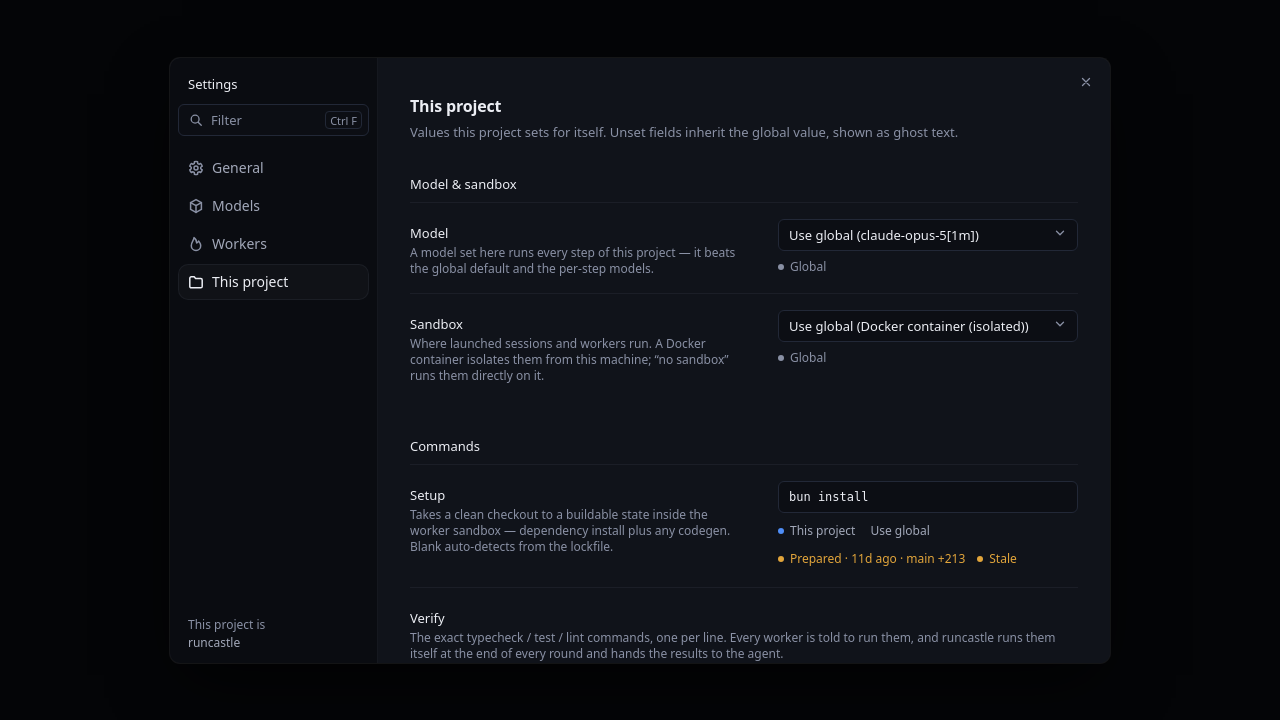
Settings — This project › keeps the evidence behind the chip, and closes it on Escape without closing the dialog
Click the button "Prepared · 11d ago · main +213" at (872, 559), box [772,547,971,571]
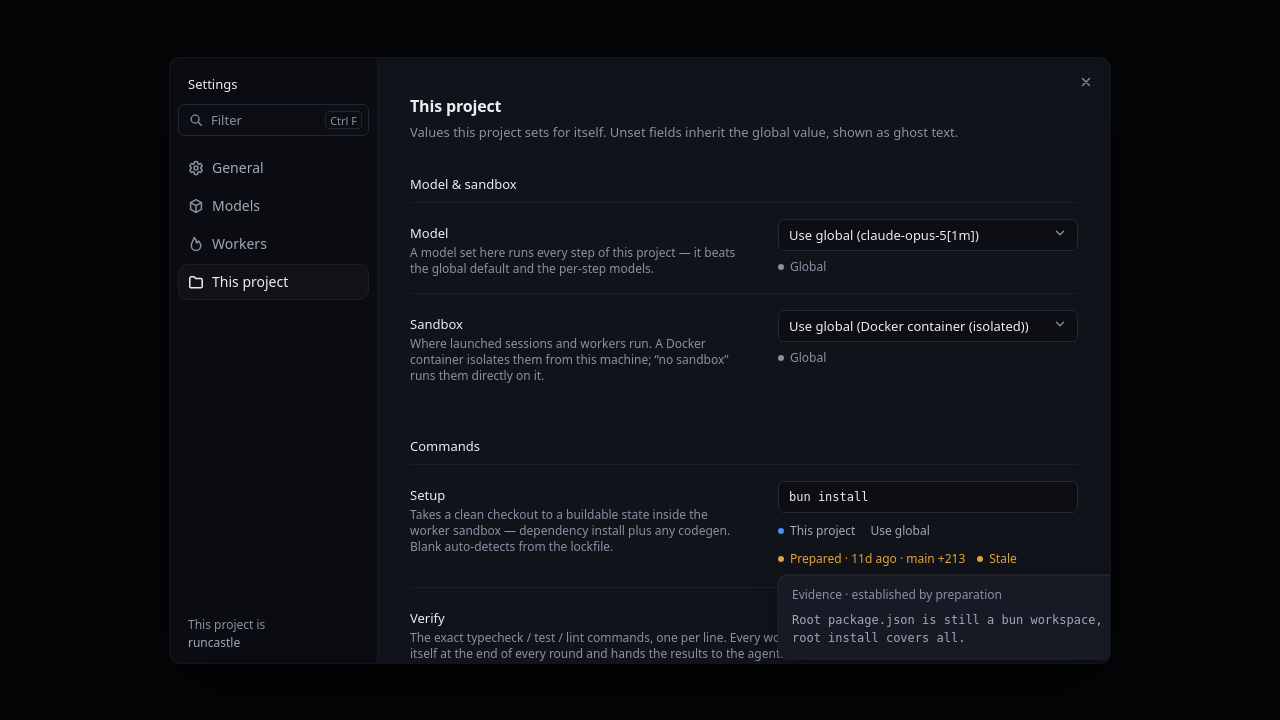
Expected: the heading "Evidence · established by preparation" is shown, [792,586,1002,603]
Expected: the text "Root package.json is still a bun workspace, so one root install covers all." is shown, [792,611,1110,647]
Press Escape in the button "Prepared · 11d ago · main +213", box [772,547,971,571]
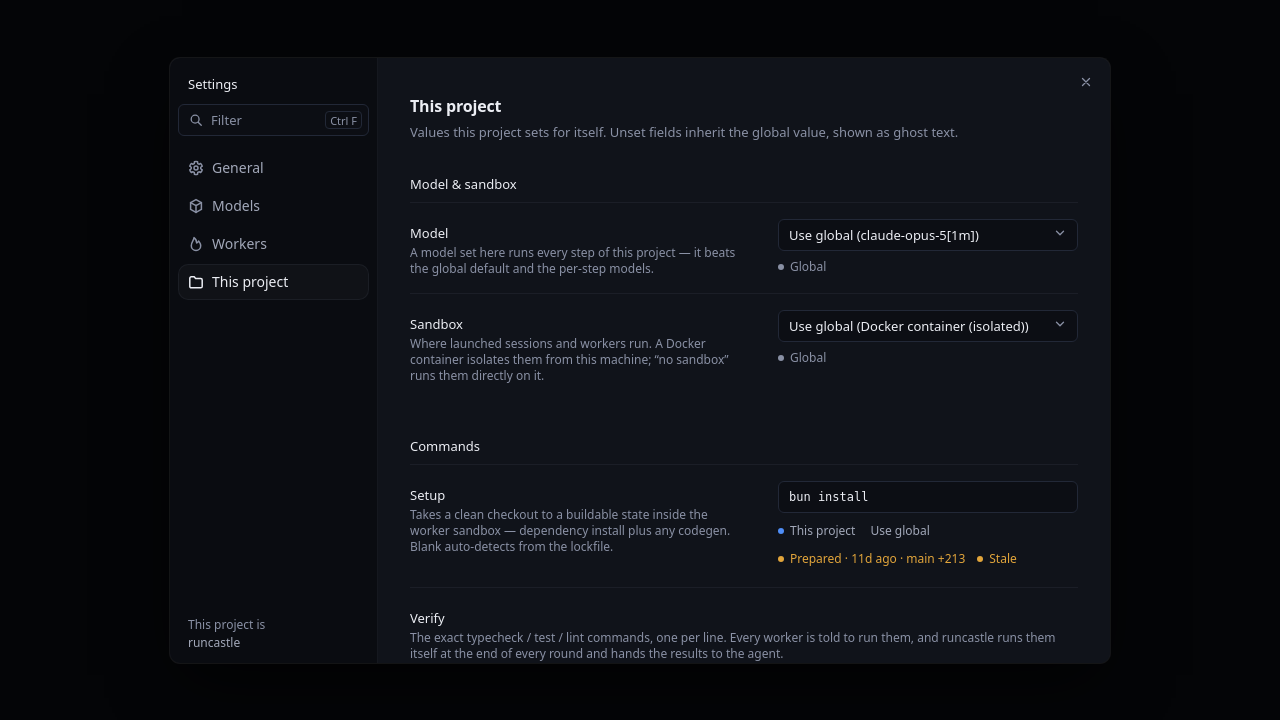
Expected: the text "Root package.json is still a bun workspace, so one root install covers all." is gone
